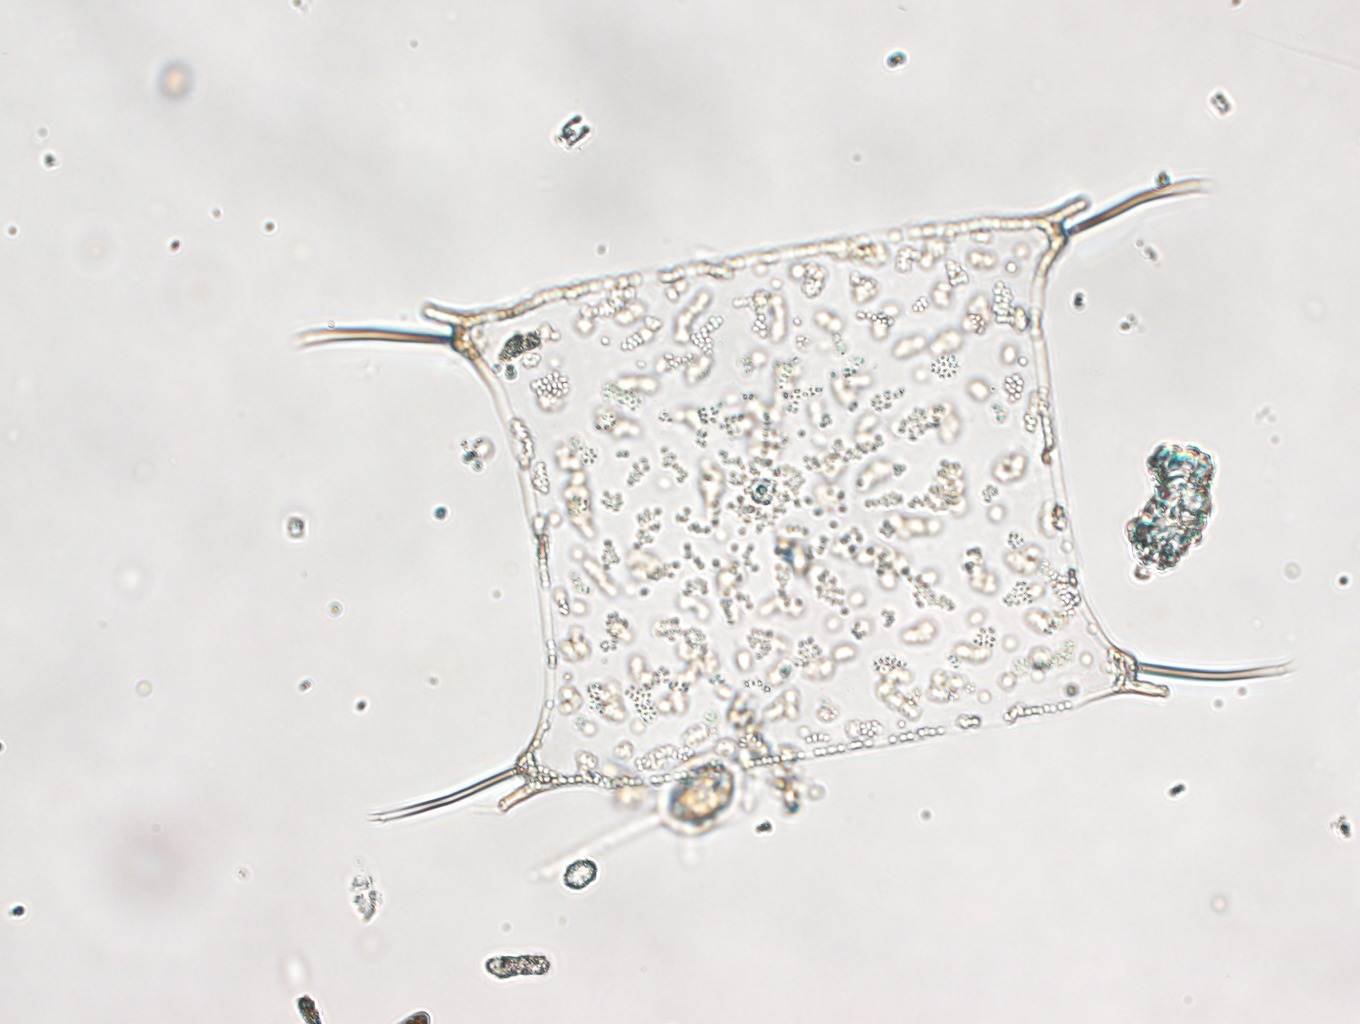biddulphia: (284, 162, 1302, 831)
